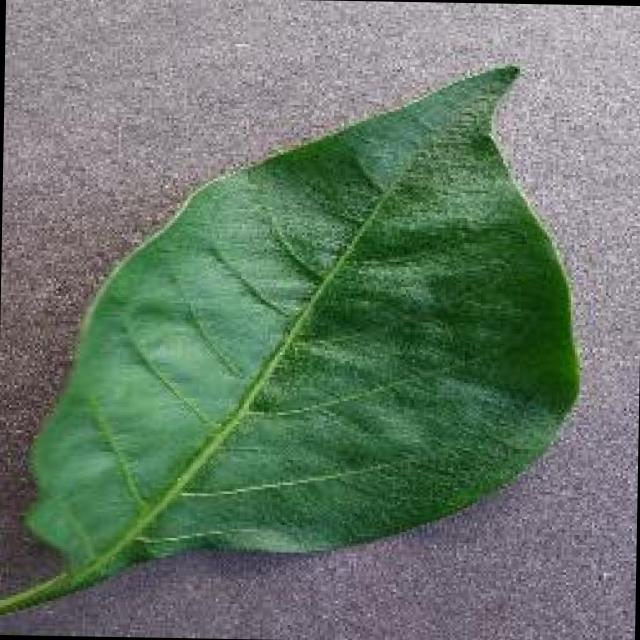Chilli_Healthy: (0, 49, 586, 636)
